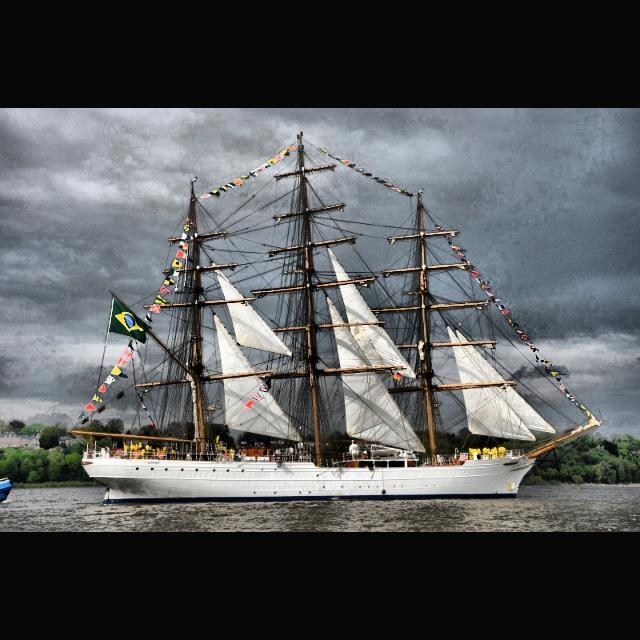sailing_vessel: (65, 130, 602, 506)
